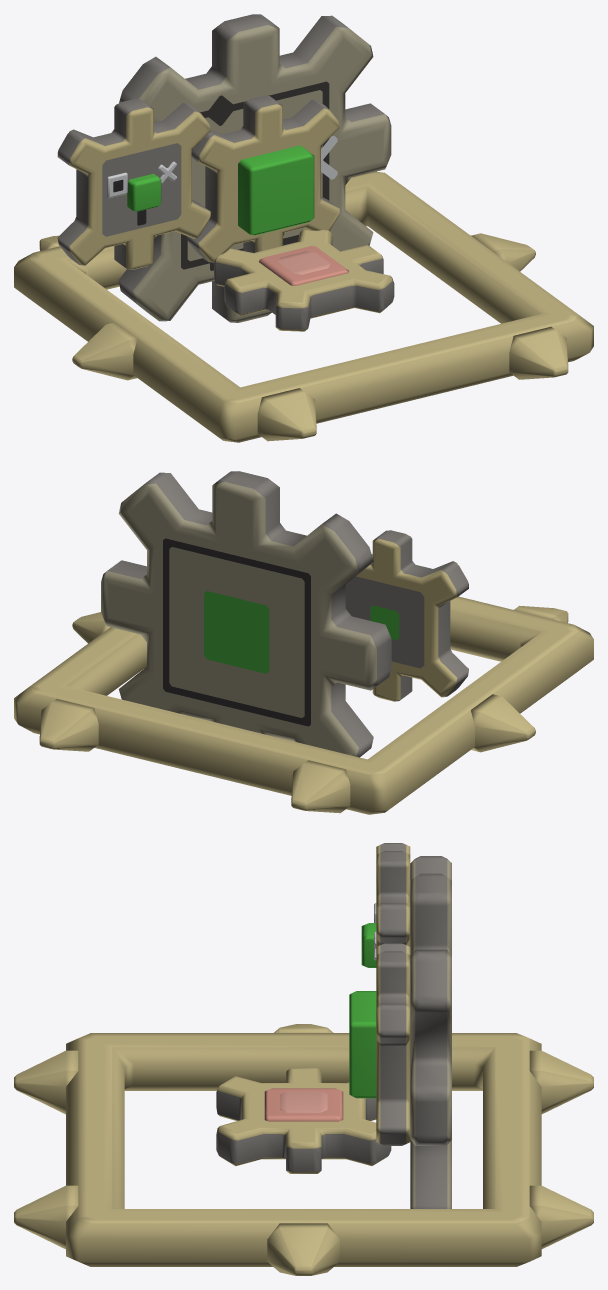
3 views of the same model, one above another, from view 1: azimuth 30°, elevation 25°; view 2: azimuth 150°, elevation 25°; view 3: azimuth 270°, elevation 25° (orthographic). The views are drawn at different scales.
Visible parts, largest first — view 1: model; view 2: model; view 3: model.
Boxes of the visible parts, bbox=[...] form: model: bbox=[14, 14, 593, 442]; model: bbox=[14, 471, 593, 814]; model: bbox=[14, 843, 593, 1275].
Size of the model in its own units: 4.44 by 2.7 by 4.44.
